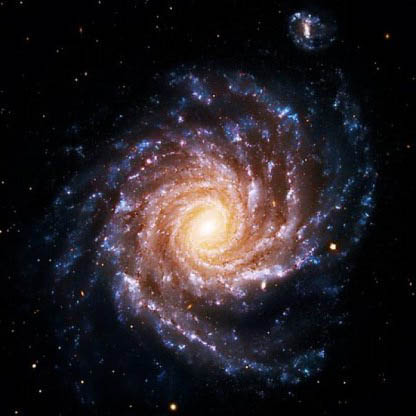NGC 1232: (40, 15, 387, 381)
